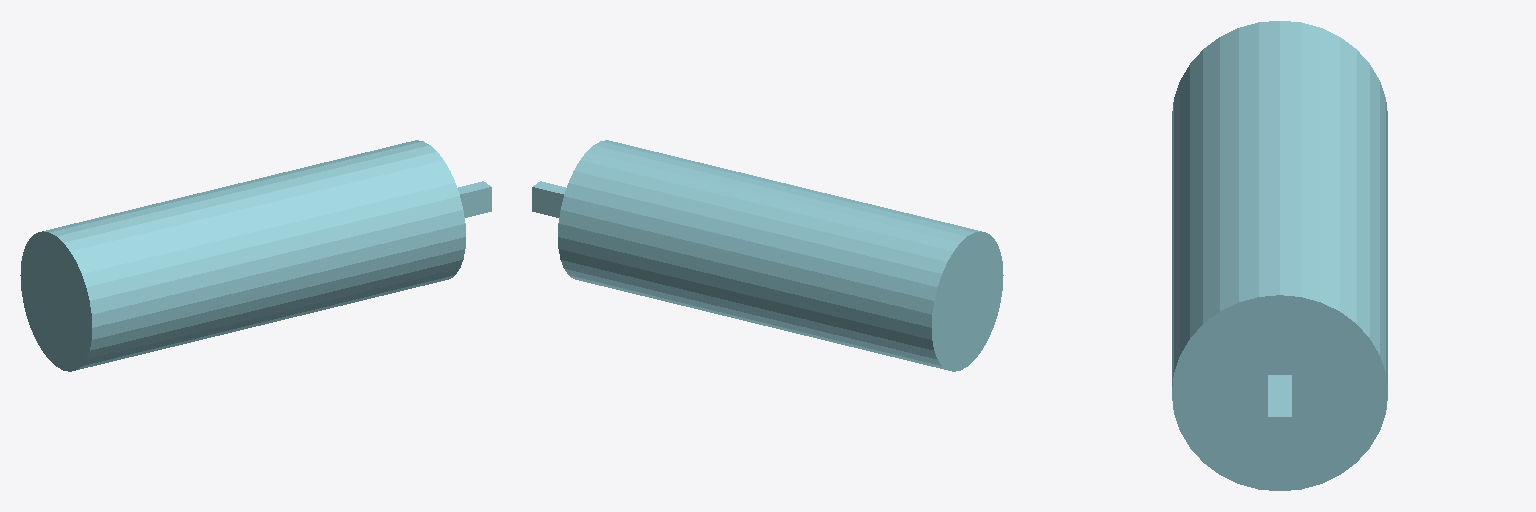
The robot description file, URDF, robot "cylinder_marker_v4007":
<?xml version="1.0"?>
<robot name="cylinder_marker_v4007">

  <link name="cylinder_marker_v4007">
    <!-- Handle -->
    <visual>
      <origin xyz="0 0 0" rpy="0 1.5707963267948966 0"/>
      <geometry>
        <cylinder length="0.1499328547855679" radius="0.024985271041598055"/>
      </geometry>
      <material name="material">
        <color rgba="0.639 0.847 0.882 1.0"/>
      </material>
    </visual>
    <collision>
      <origin xyz="0 0 0" rpy="0 1.5707963267948966 0"/>
      <geometry>
        <cylinder length="0.1499328547855679" radius="0.024985271041598055"/>
      </geometry>
    </collision>

    <!-- Head -->
    <visual>
      <origin xyz="0.08646767754837191 0 0" rpy="0 0 0"/>
      <geometry>
        <box size="0.023002500311175938 0.005452203634920664 0.009485166994483128"/>
      </geometry>
      <material name="material">
        <color rgba="0.639 0.847 0.882 1.0"/>
      </material>
    </visual>
    <collision>
      <origin xyz="0.08646767754837191 0 0" rpy="0 0 0"/>
      <geometry>
        <box size="0.023002500311175938 0.005452203634920664 0.009485166994483128"/>
      </geometry>
    </collision>

    <inertial>
      <density value="400.0"/>
    </inertial>
  </link>

</robot>

--- Facts derived from the render (not from the file) ---
Views: 3 orthographic renders of the robot side by side, from view 1: azimuth 30°, elevation 25°; view 2: azimuth 150°, elevation 25°; view 3: azimuth 270°, elevation 25°.
Robot: cylinder_marker_v4007 — 1 links, 0 joints (none); root link cylinder_marker_v4007; default pose: all joints at 0.
Visible links, largest first — view 1: cylinder_marker_v4007; view 2: cylinder_marker_v4007; view 3: cylinder_marker_v4007.
Link boxes in pixels (bbox=[...]): cylinder_marker_v4007: bbox=[20, 140, 491, 371]; cylinder_marker_v4007: bbox=[532, 140, 1003, 371]; cylinder_marker_v4007: bbox=[1172, 21, 1387, 490].
Size in the robot's own frame: 0.1729 by 0.05 by 0.05 metres.
Geometry: primitives only (box / cylinder / sphere), no mesh files.
